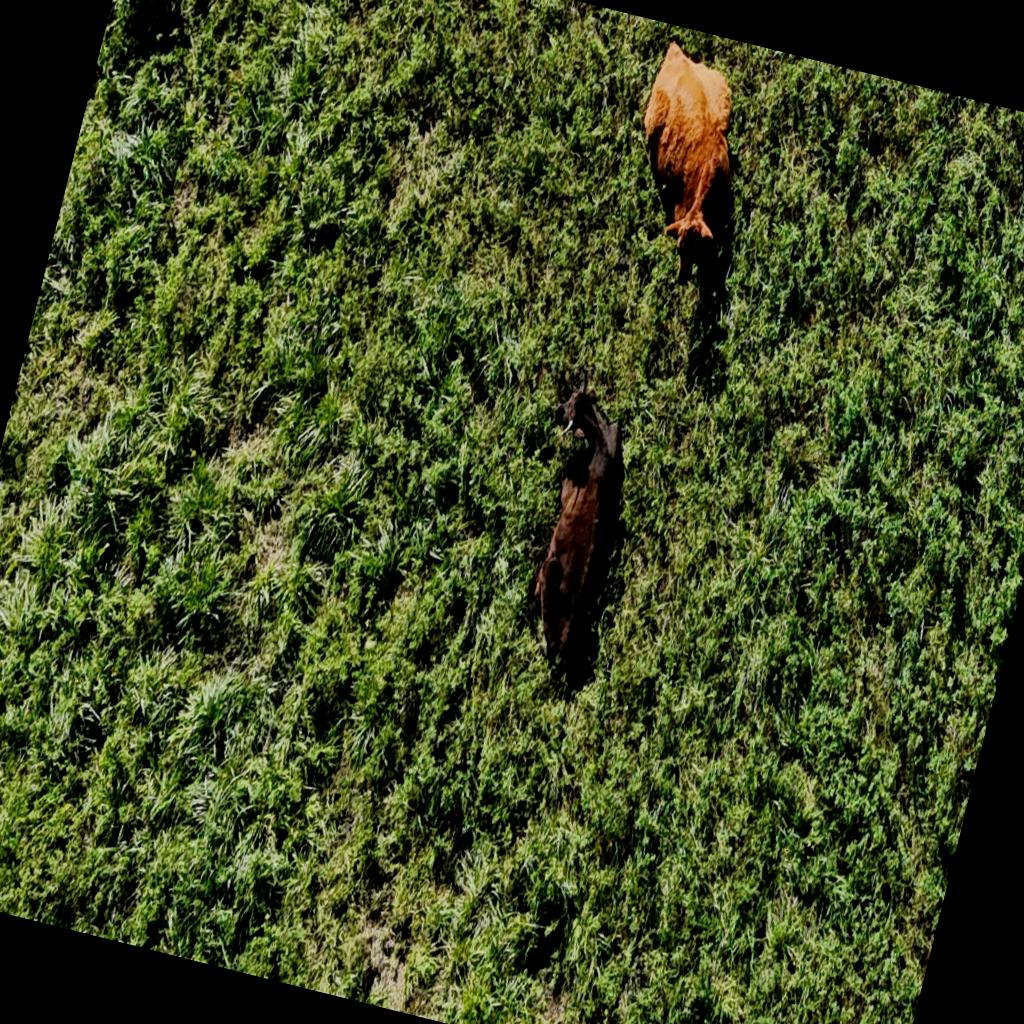cow: (492, 362, 656, 672), (604, 35, 770, 294)
